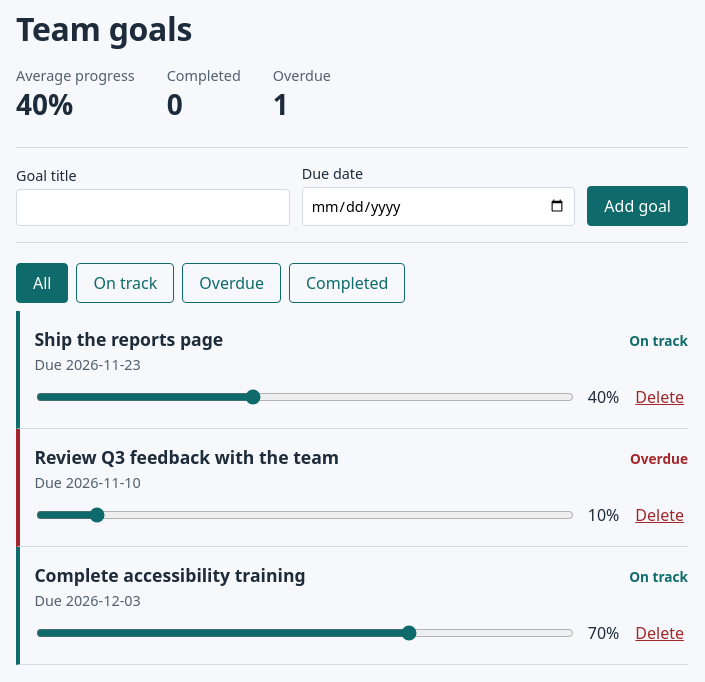
App › filters to overdue goals
Click the button "Overdue".
click(232, 283)  # box [182,263,281,303]
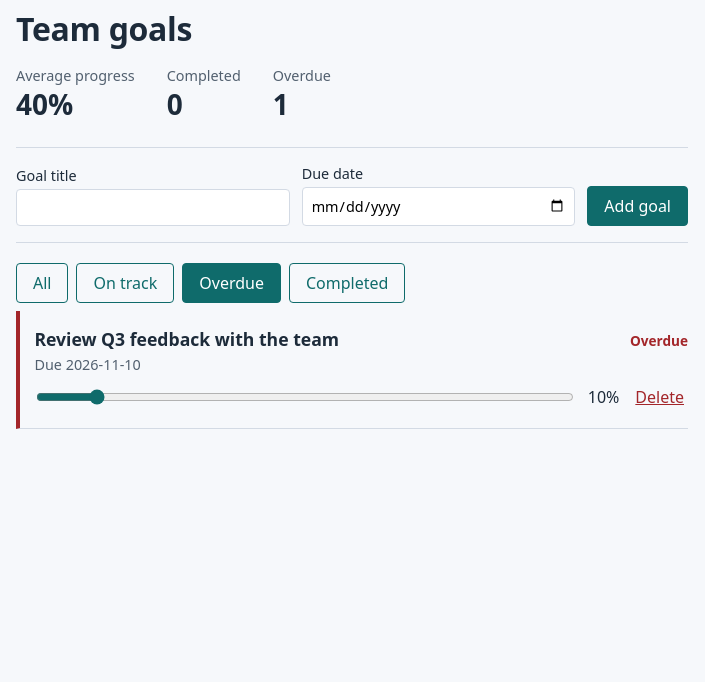
Expected: the heading "Review Q3 feedback with the team" is shown, [34,327,339,351]
Now the number of list items is 1, box [16,311,688,429]
